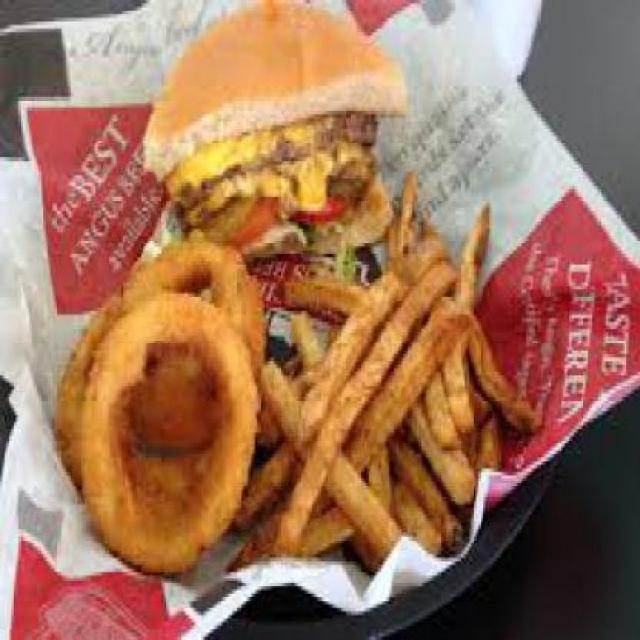french fries: (262, 190, 526, 572)
onion rings: (43, 232, 260, 583)
